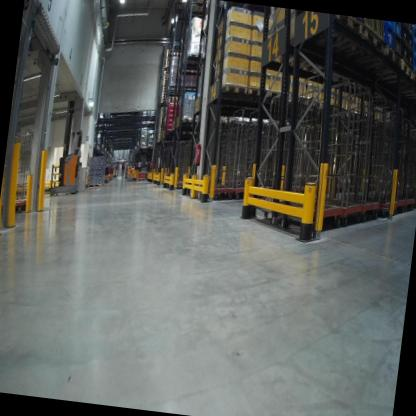forklift: (46, 96, 91, 203)
pallet: (272, 7, 364, 86), (335, 23, 386, 87), (358, 54, 415, 100), (363, 40, 403, 97), (387, 65, 416, 97), (180, 49, 201, 75), (215, 81, 248, 97), (267, 84, 293, 103), (246, 82, 270, 100), (406, 81, 416, 109), (173, 129, 190, 139)
